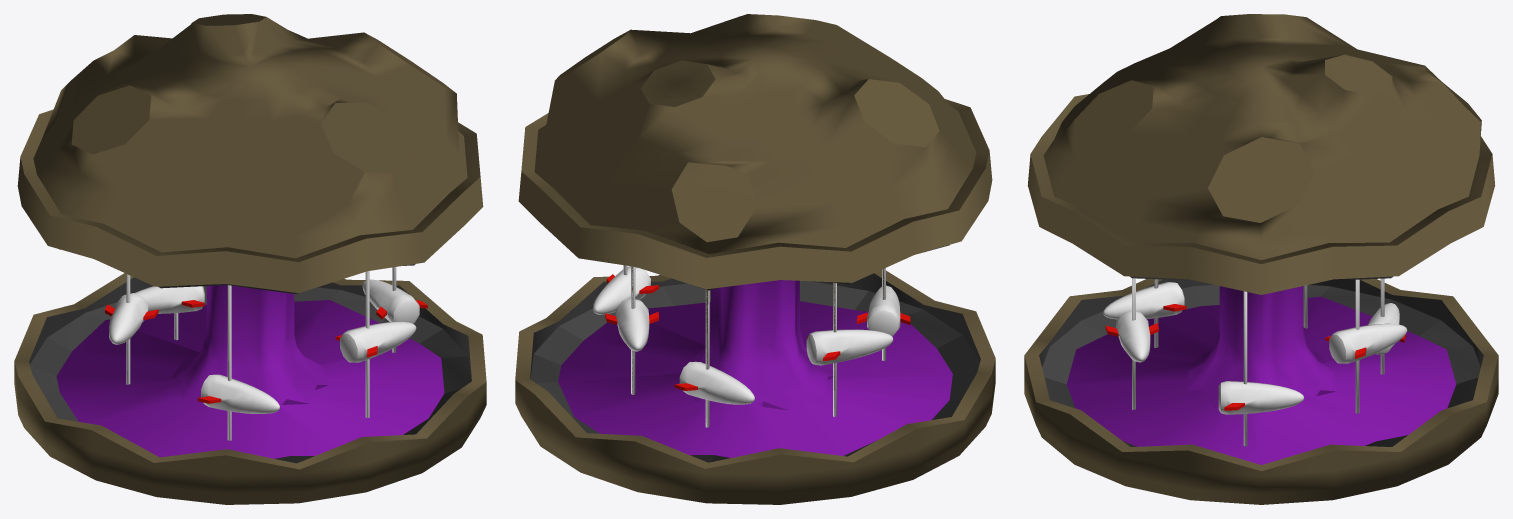
Rendered from Rocket-Go-Round.fbx.
3 renders of one model, left to right at view 1: azimuth 30°, elevation 25°; view 2: azimuth 150°, elevation 25°; view 3: azimuth 270°, elevation 25°, orthographic.
Parts seen in each view (by area): view 1: Meteor_go_round; view 2: Meteor_go_round; view 3: Meteor_go_round.
Part boxes in pixels (x1=…): Meteor_go_round: x1=14, y1=14, x2=486, y2=504; Meteor_go_round: x1=515, y1=14, x2=995, y2=504; Meteor_go_round: x1=1024, y1=14, x2=1498, y2=504.
Size of the model in its own units: 576 by 483 by 576.
